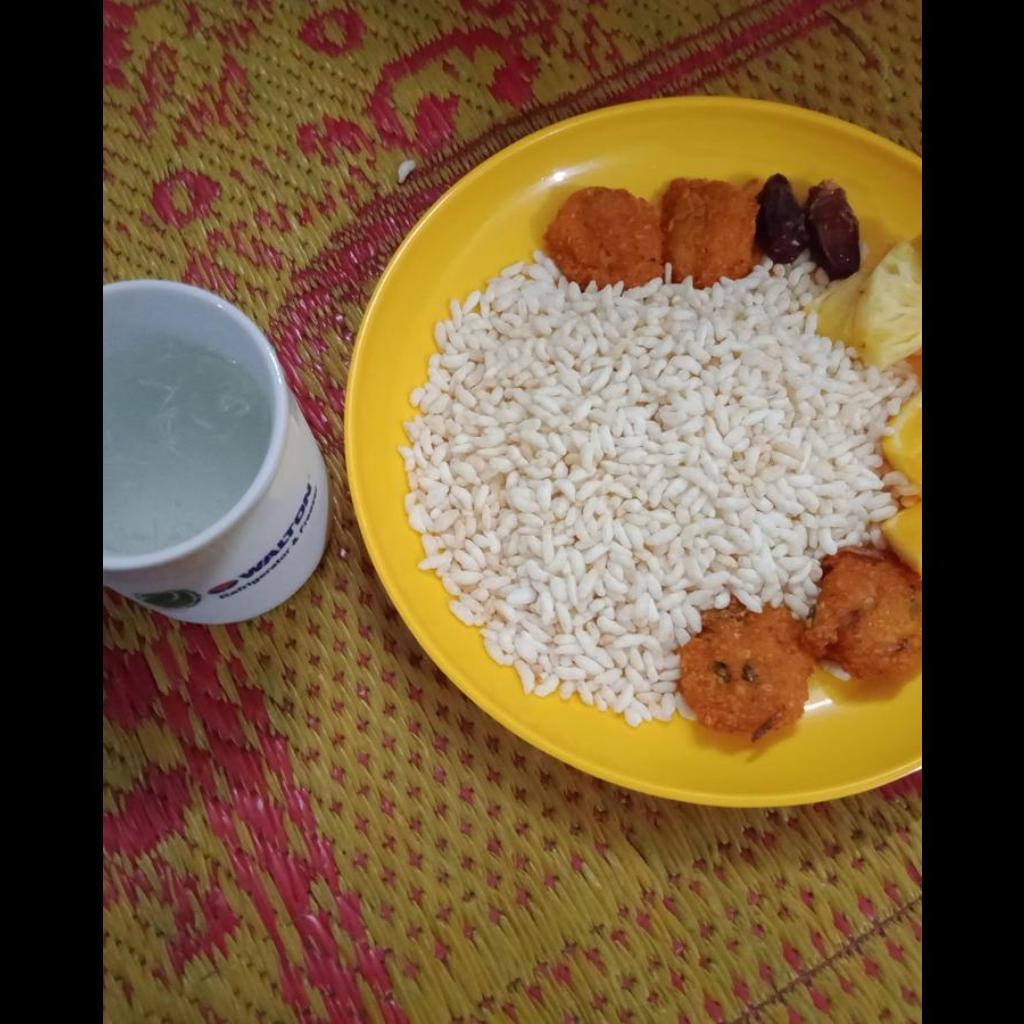dates: (754, 174, 857, 280)
juice: (102, 281, 272, 554)
peyaju: (678, 553, 920, 740)
pineapple: (812, 242, 920, 366)
piyaju: (545, 177, 762, 288)
puffed-rice: (398, 253, 912, 725)
